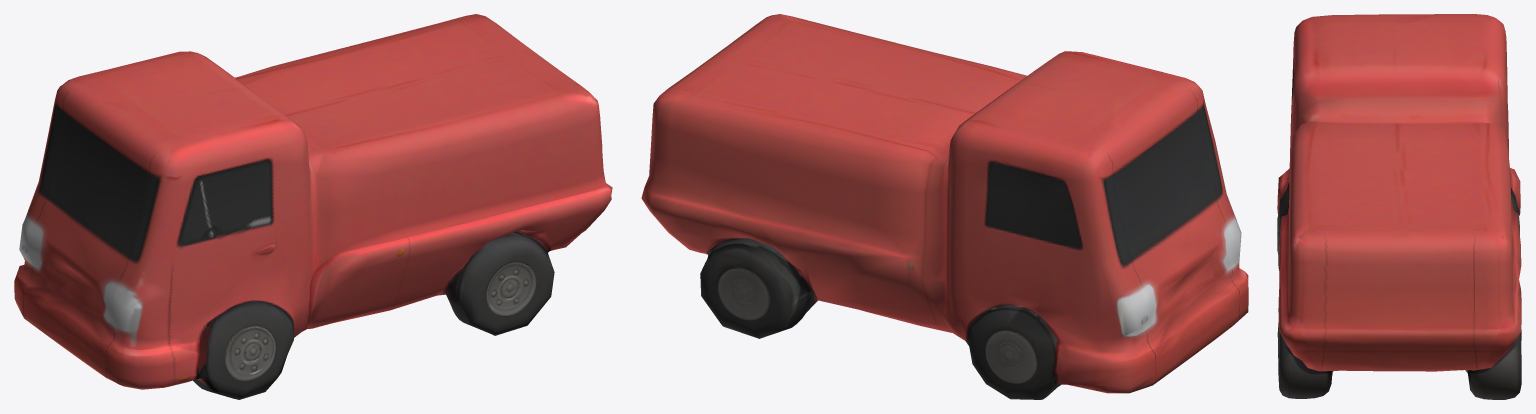
The model's file is Red_Toy_Truck_0905101541_texture.fbx.
3 views of the same model, side by side, from view 1: azimuth 30°, elevation 25°; view 2: azimuth 150°, elevation 25°; view 3: azimuth 270°, elevation 25° (orthographic). The views are drawn at different scales.
Parts seen in each view (by area): view 1: input; view 2: input; view 3: input.
Part boxes in pixels (x1,y1,x2,y2): input: [14, 14, 612, 399]; input: [641, 14, 1248, 399]; input: [1277, 14, 1521, 399].
Bounding box in the file's own units: 187 × 92.94 × 87.66.
1 material, 1 textured.
